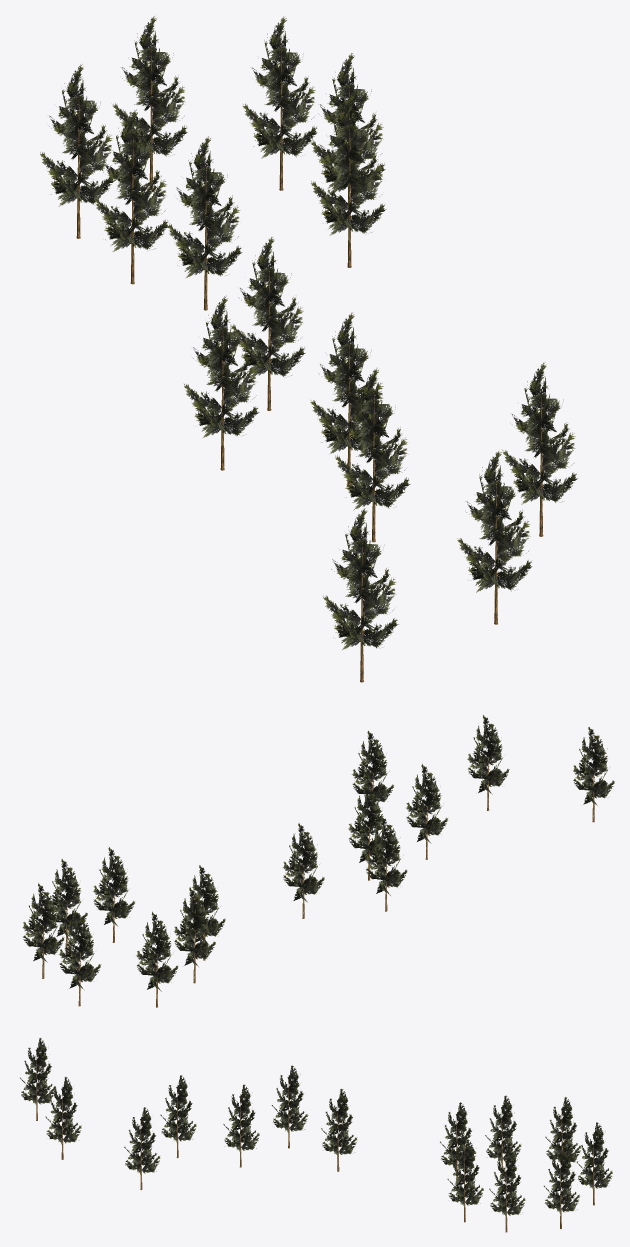
Rendered from Trees GKP.fbx.
3 views of the same model, one above another, from view 1: azimuth 30°, elevation 25°; view 2: azimuth 150°, elevation 25°; view 3: azimuth 270°, elevation 25° (orthographic). The views are drawn at different scales.
Parts seen in each view (by area): view 1: polySurface221, polySurface235, polySurface123, polySurface81, polySurface180; view 2: polySurface221, polySurface123, polySurface235, polySurface81, polySurface180; view 3: polySurface221, polySurface123, polySurface235, polySurface180, polySurface81.
Part boxes in pixels (left/top/right/bottom): polySurface221: left=112, top=16, right=386, bottom=267; polySurface235: left=40, top=64, right=242, bottom=310; polySurface123: left=184, top=237, right=385, bottom=486; polySurface81: left=323, top=451, right=532, bottom=682; polySurface180: left=335, top=362, right=577, bottom=542; polySurface221: left=22, top=847, right=134, bottom=1006; polySurface123: left=282, top=785, right=407, bottom=918; polySurface235: left=136, top=865, right=225, bottom=1007; polySurface81: left=467, top=715, right=614, bottom=822; polySurface180: left=351, top=730, right=447, bottom=859; polySurface221: left=447, top=1122, right=612, bottom=1232; polySurface123: left=223, top=1065, right=357, bottom=1171; polySurface235: left=440, top=1095, right=580, bottom=1184; polySurface180: left=124, top=1075, right=196, bottom=1190; polySurface81: left=20, top=1038, right=81, bottom=1159.
Bounding box in the file's own units: 6103 × 1860 × 11846.
2 materials, 2 textured.
